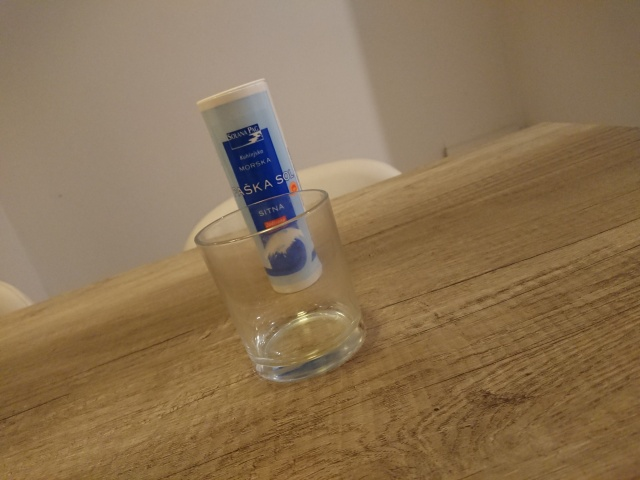Solana Pag Fine Sea Salt 250g: (192, 74, 328, 297)
